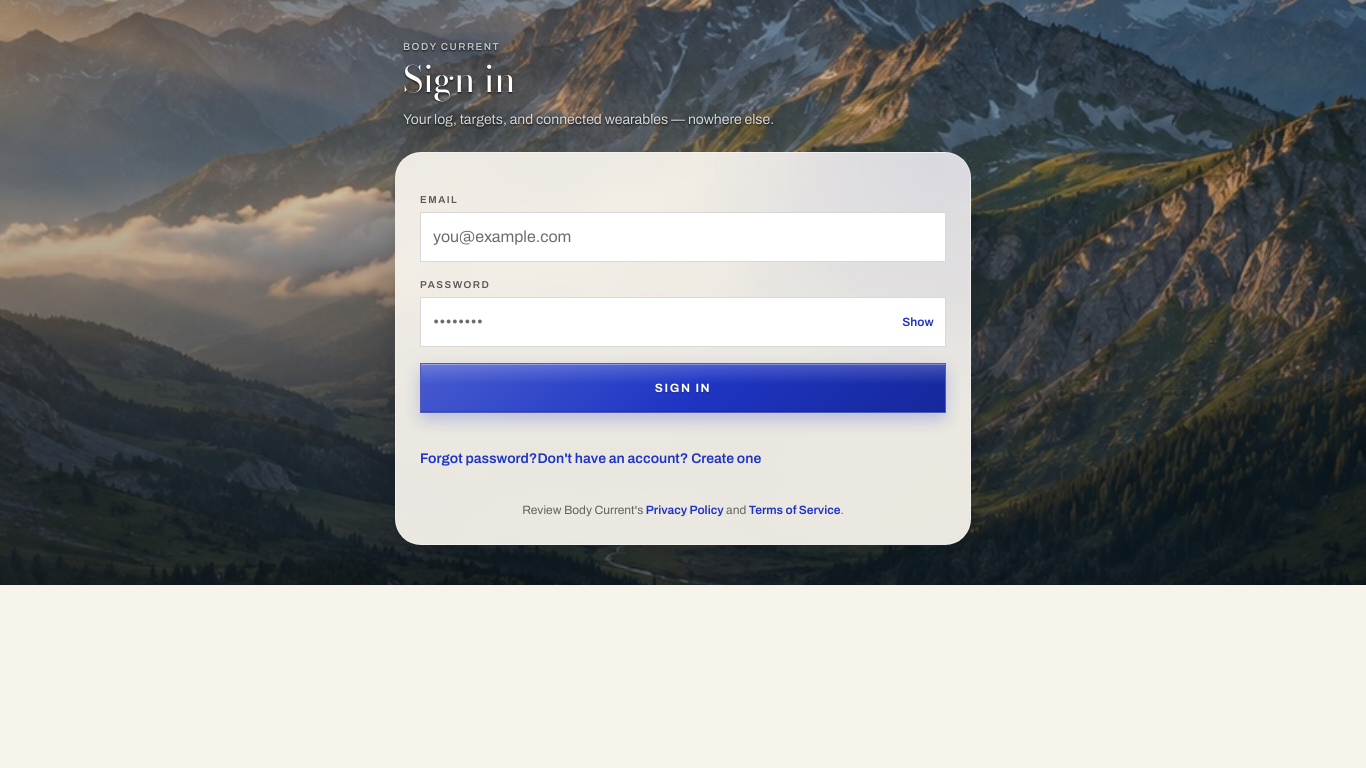
Test: password recovery › offers recovery from sign in and shows the Oura identity explanation
Step 1. Click the button "Forgot password?" → coordinates (479, 459), box [420,437,537,481]
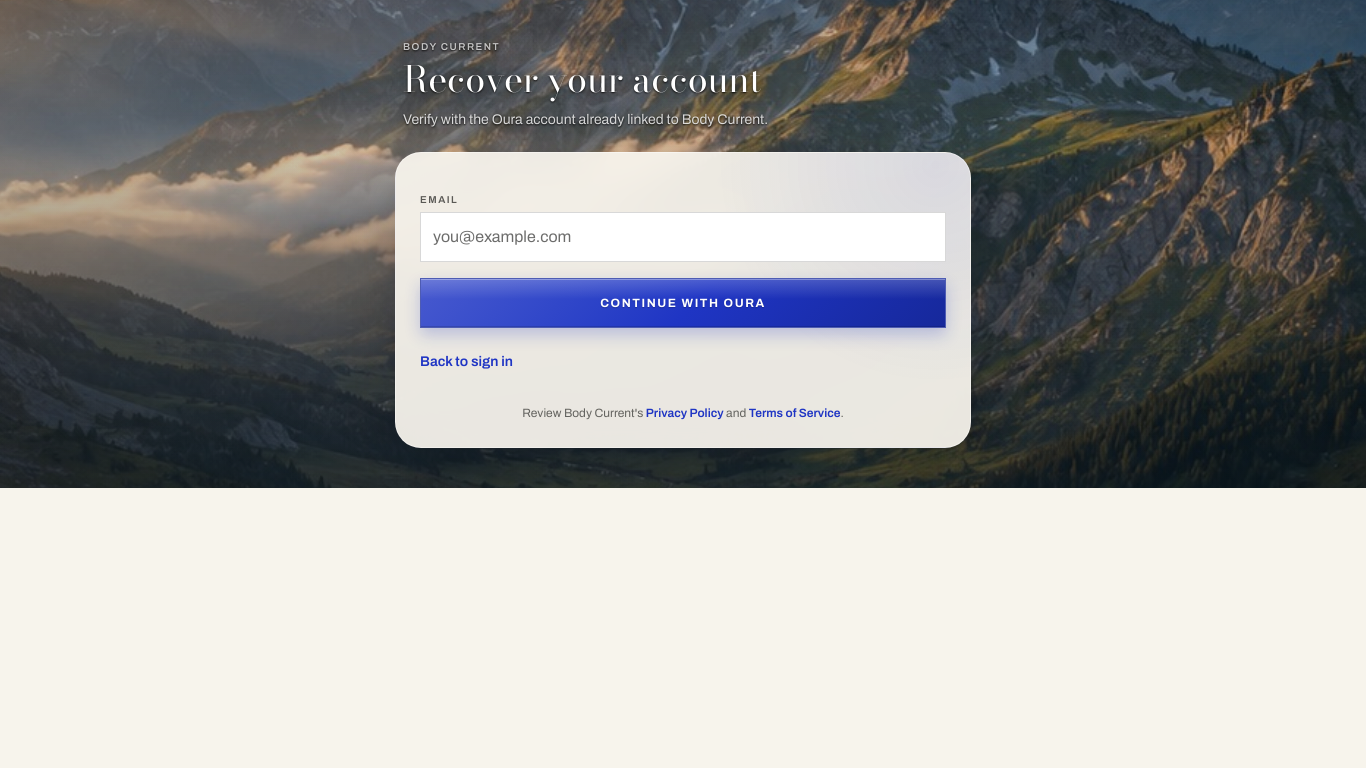
Expected: the text "Recover your account" is shown, [403,51,762,106]
Expected: the text "Oura account already linked" is shown, [403,112,768,127]
Expected: the password field is gone
